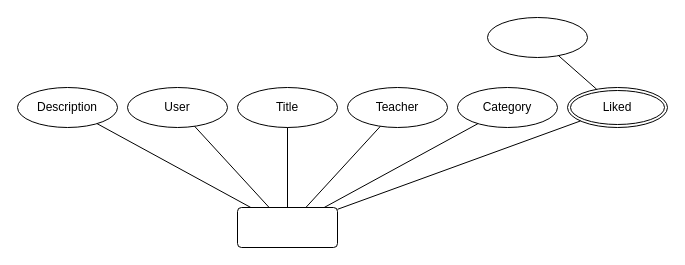
The diagram is 685 pixels wide and 265 high, and some of its shapes have lost their labels. Here are the shapes that lost their labels. From the top down, the box of each, then its label:
(486, 16, 588, 58): Liker
(236, 206, 338, 248): CourseProposal
